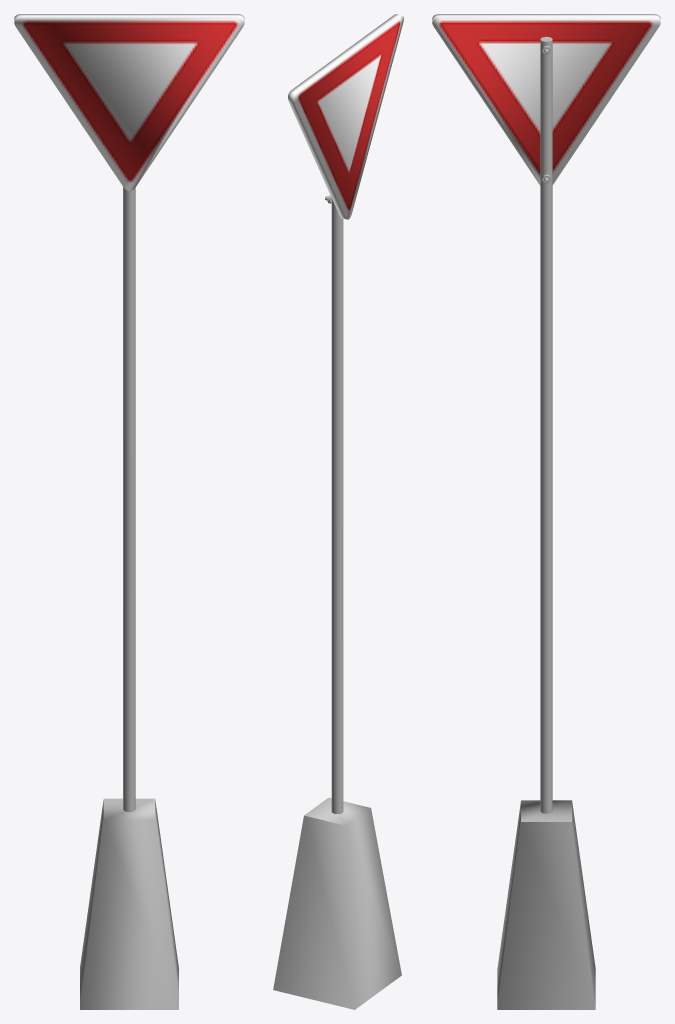
Rendered from TrafficSign2.fbx.
3 renders of one model, left to right at view 1: azimuth 90°, elevation 25°; view 2: azimuth 150°, elevation 25°; view 3: azimuth 270°, elevation 25°, orthographic. The views are drawn at different scales.
Visible parts, largest first — view 1: TrafficSign2; view 2: TrafficSign2; view 3: TrafficSign2.
Part boxes in pixels (left/top/right/bottom): TrafficSign2: left=14, top=14, right=244, bottom=1009; TrafficSign2: left=273, top=14, right=403, bottom=1009; TrafficSign2: left=432, top=14, right=660, bottom=1009.
Bounding box in the file's own units: 0.4226 × 0.9839 × 4.6.
